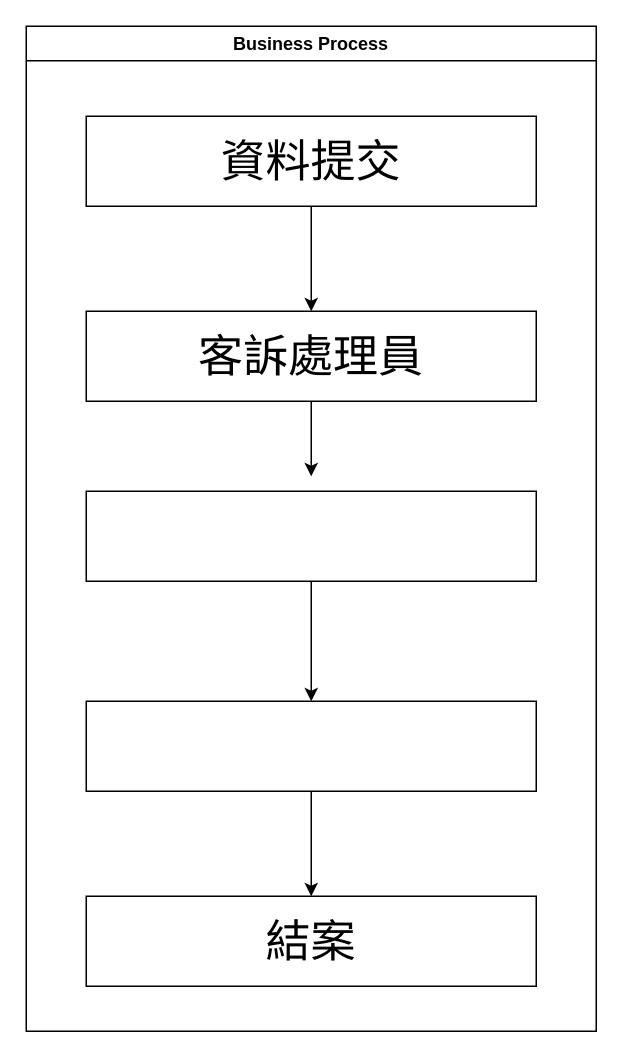
The diagram is 623 pixels wide and 1058 high, and some of its shapes have lost their labels. Each missing label, with the box of its shape:
業務主管確認: (85, 700, 536, 791)
申請業務確認: (85, 490, 536, 581)
